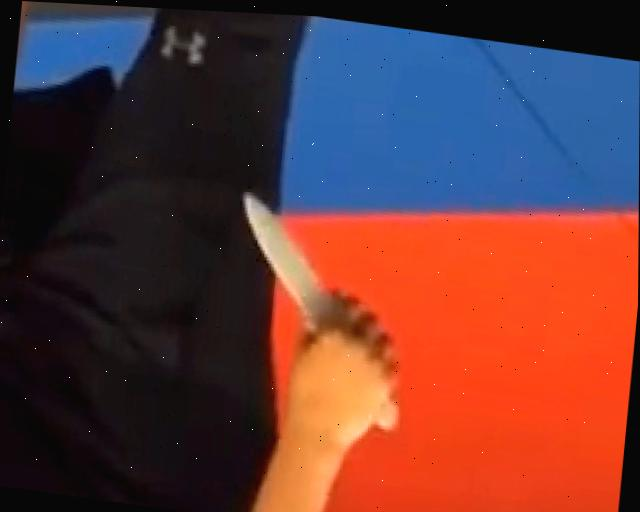pocket-knife: (218, 183, 418, 429)
